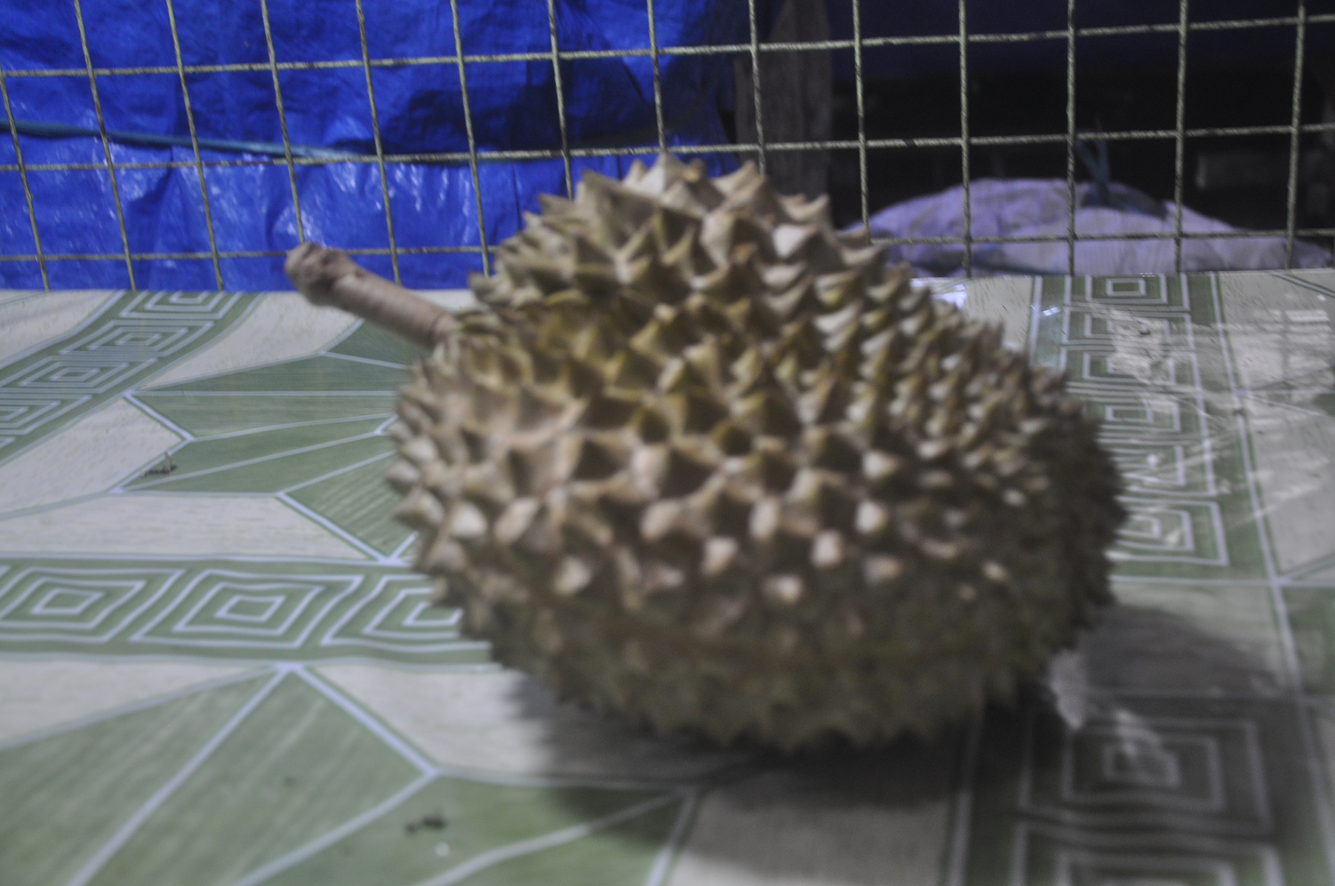mature: (287, 154, 1124, 755)
